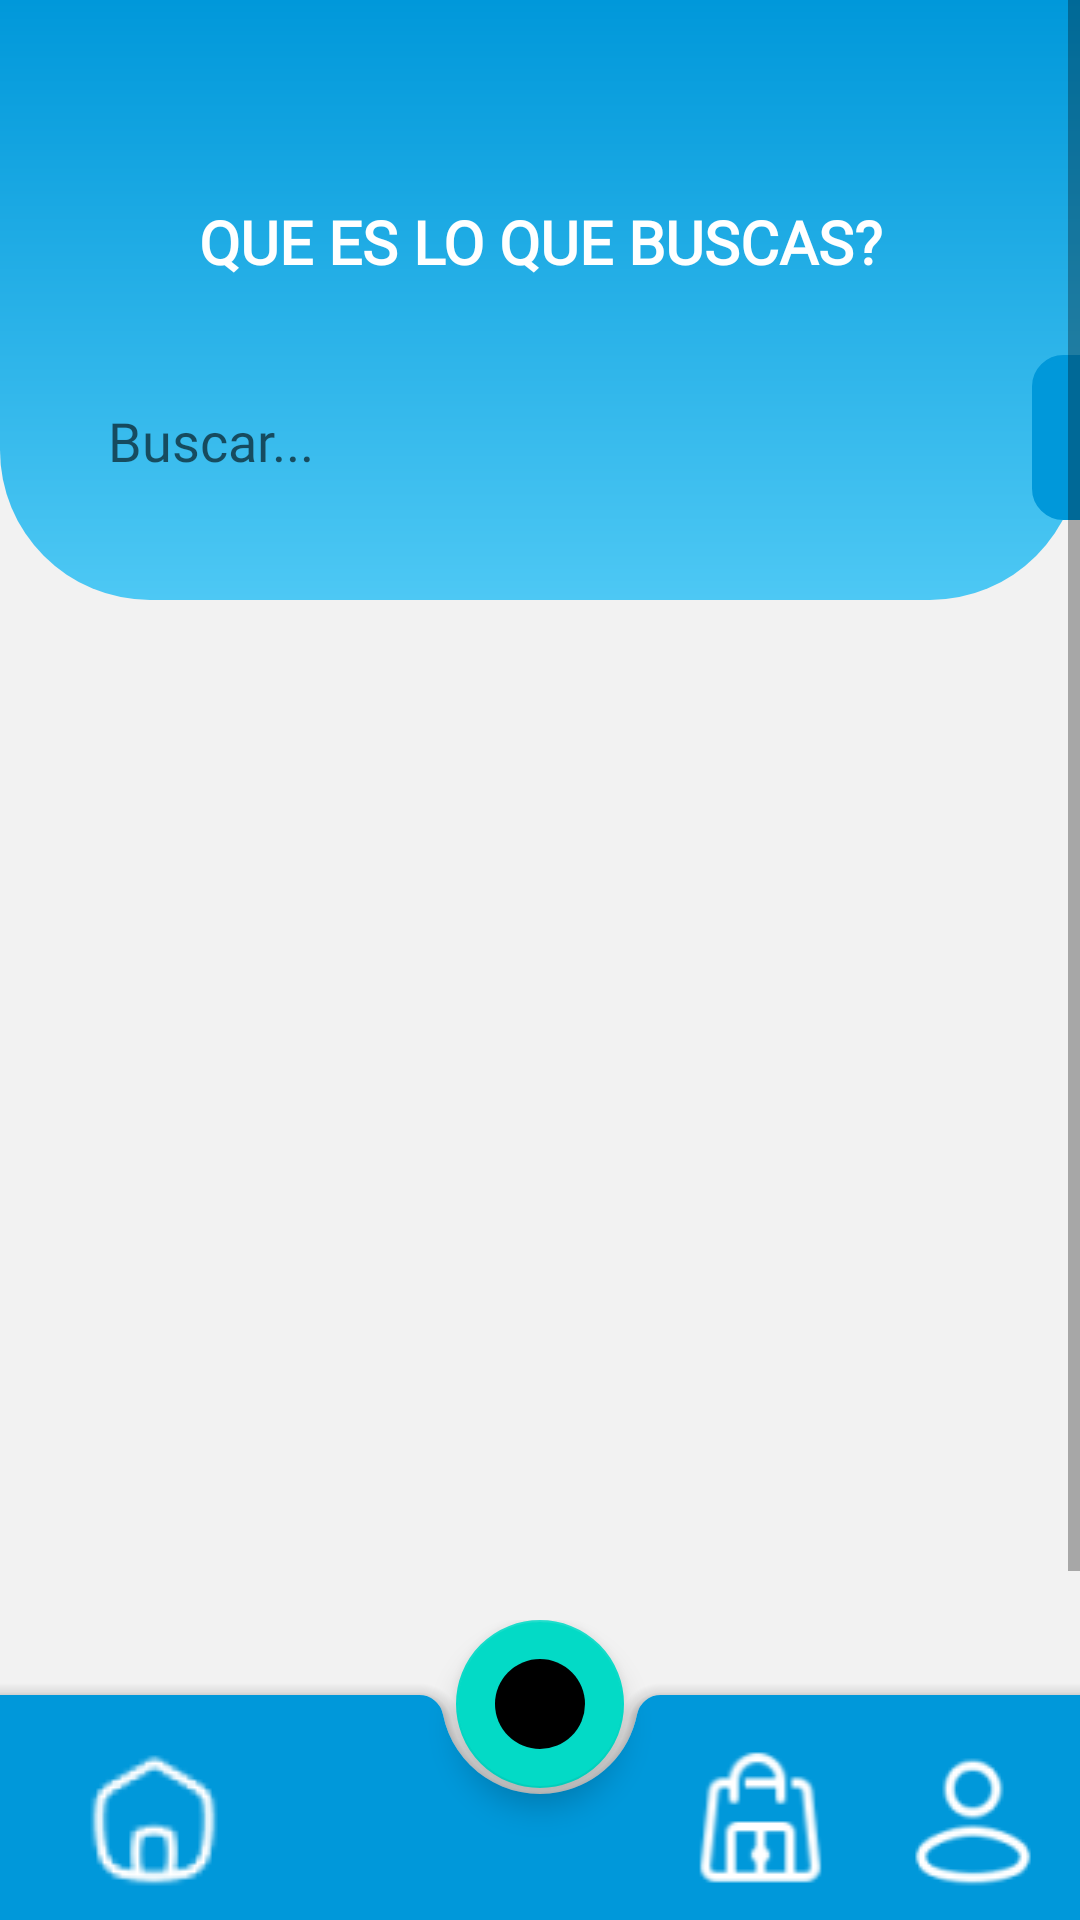

Screen size 1080x1920. Icon name, then its box in pixels as (x1, y1, x2, y2):
home: (91, 1755, 217, 1885)
shop: (699, 1752, 822, 1883)
user: (915, 1758, 1031, 1885)
